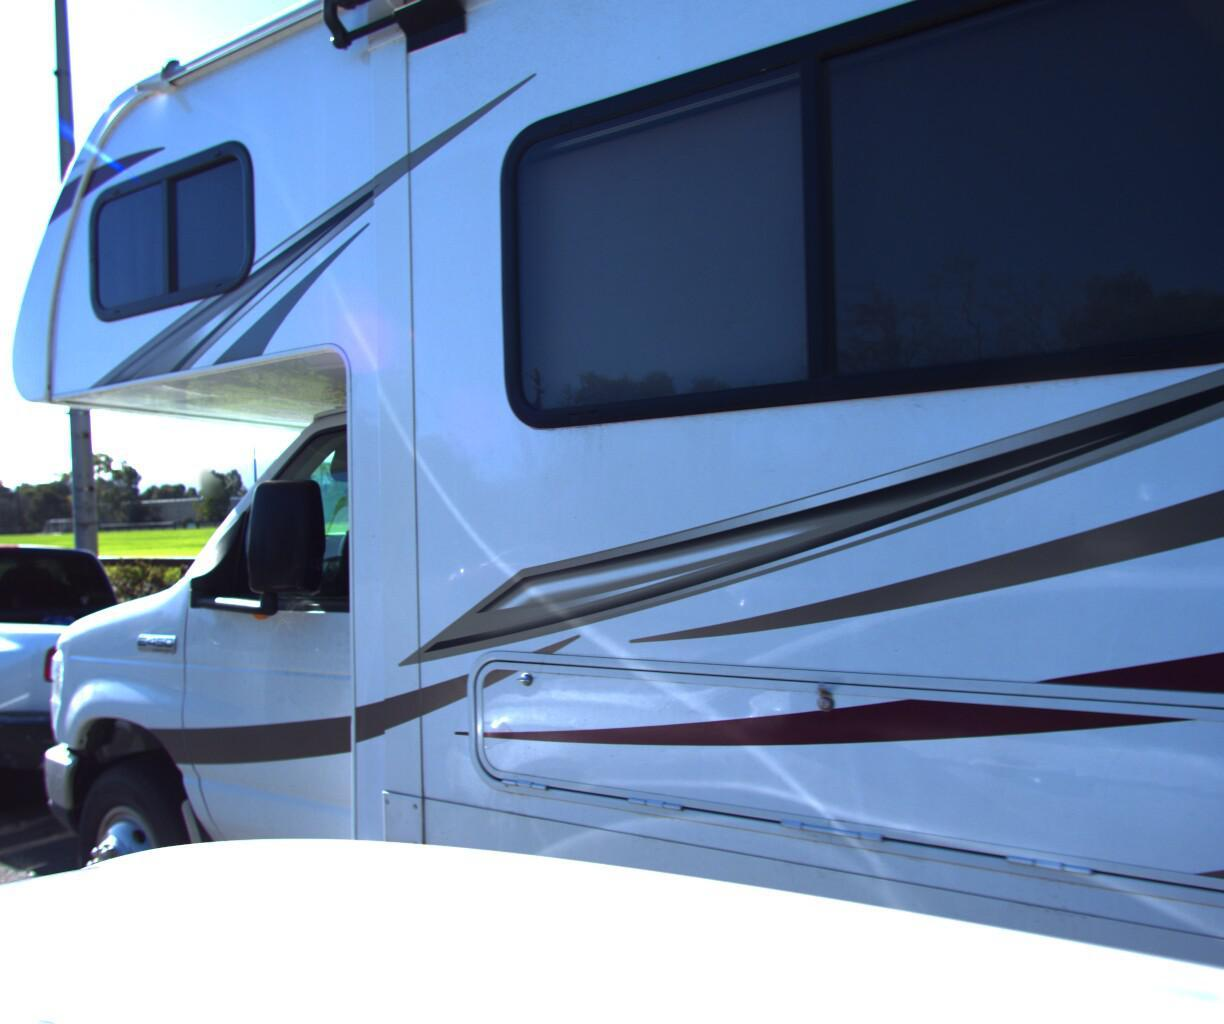car: (0, 518, 323, 858)
